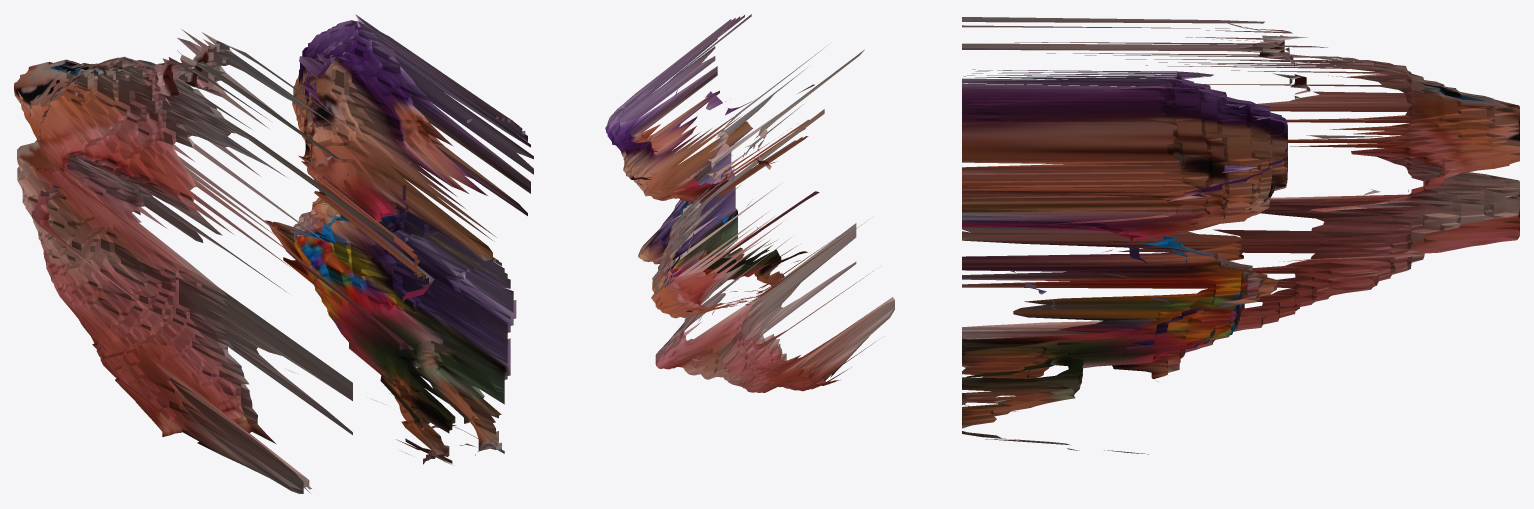
Rendered from frame_00020.glb.
3 renders of one model, left to right at view 1: azimuth 30°, elevation 25°; view 2: azimuth 150°, elevation 25°; view 3: azimuth 270°, elevation 25°, orthographic. The views are drawn at different scales.
Parts seen in each view (by area): view 1: geometry_0; view 2: geometry_0; view 3: geometry_0.
Part boxes in pixels (box(x1,y1,x2,y2)): geometry_0: box(14, 14, 533, 493); geometry_0: box(605, 14, 894, 392); geometry_0: box(962, 17, 1519, 454).
Size of the model in its own units: 0.0961 by 0.1325 by 0.16.
1 material, 1 textured.
